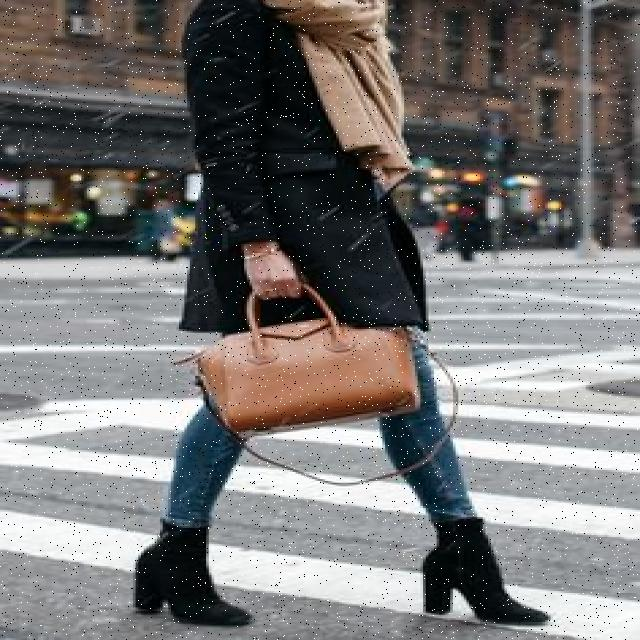handbag: (188, 279, 434, 441)
